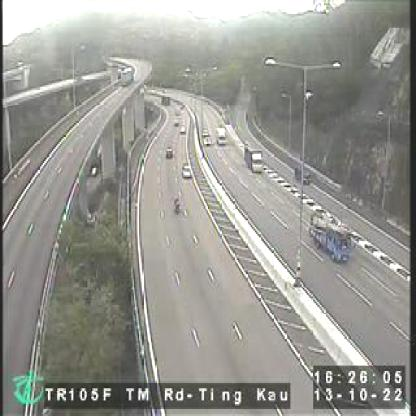Car: (295, 164, 312, 184), (182, 164, 192, 178), (165, 145, 173, 159), (203, 132, 211, 145), (180, 127, 186, 136), (181, 124, 187, 133)
Truck: (310, 207, 354, 267), (244, 145, 264, 174), (218, 127, 228, 148)
